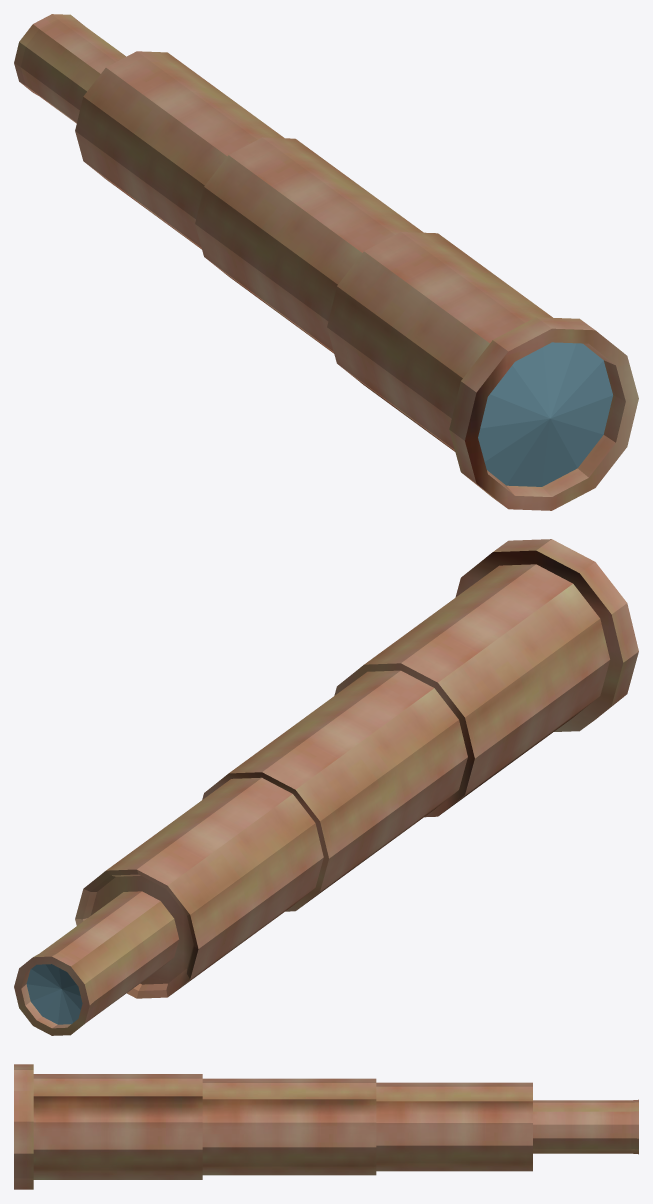
Rendered from Telescope (1).fbx.
3 renders of one model, top to bottom at view 1: azimuth 30°, elevation 25°; view 2: azimuth 150°, elevation 25°; view 3: azimuth 270°, elevation 25°, orthographic. The views are drawn at different scales.
Parts seen in each view (by area): view 1: Telescope; view 2: Telescope; view 3: Telescope.
Part boxes in pixels (box(x1,y1,x2,y2)): Telescope: box(14, 14, 638, 510); Telescope: box(14, 539, 638, 1035); Telescope: box(14, 1064, 638, 1189).
Size of the model in its own units: 21.41 by 21.41 by 107.
